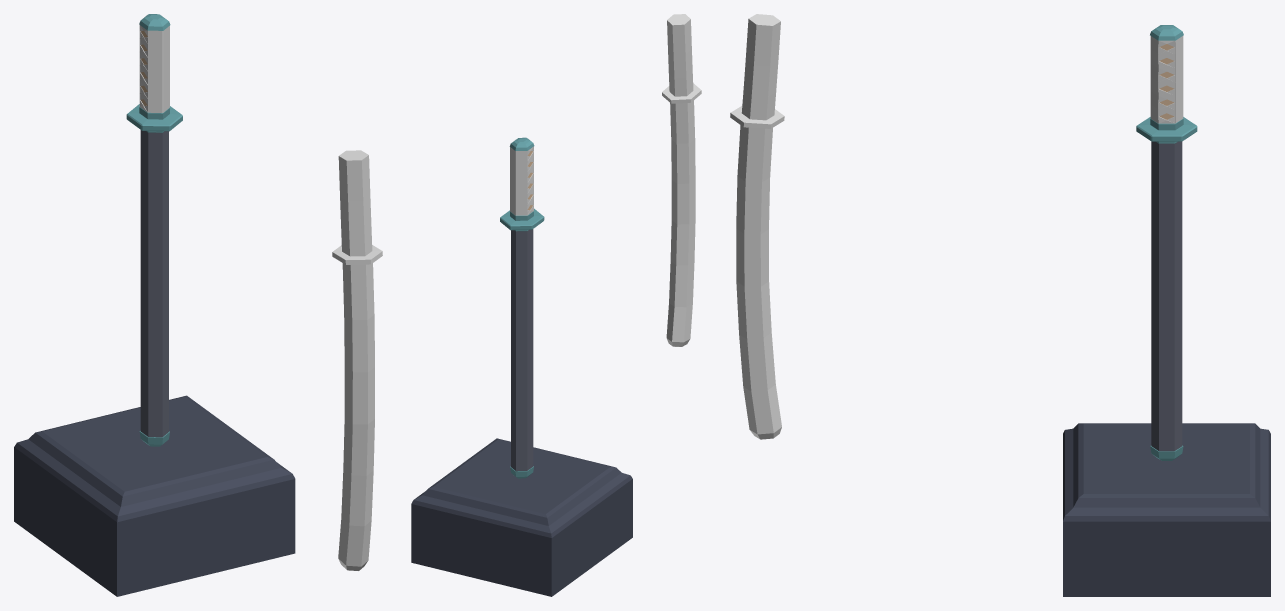
The model's file is StraitShortSword(King).fbx.
3 views of the same model, side by side, from view 1: azimuth 30°, elevation 25°; view 2: azimuth 150°, elevation 25°; view 3: azimuth 270°, elevation 25° (orthographic). The views are drawn at different scales.
Parts seen in each view (by area): view 1: StraitShortSword, Cube.001; view 2: StraitShortSword, Cube.001; view 3: StraitShortSword, Cube.001.
Part boxes in pixels (x1,y1,x2,y2): StraitShortSword: (14,14,295,596); Cube.001: (332,150,382,570); StraitShortSword: (411,137,632,596); Cube.001: (662,14,701,346); StraitShortSword: (1063,25,1270,596); Cube.001: (730,14,784,439).
Size of the model in its own units: 200 by 567 by 520.
